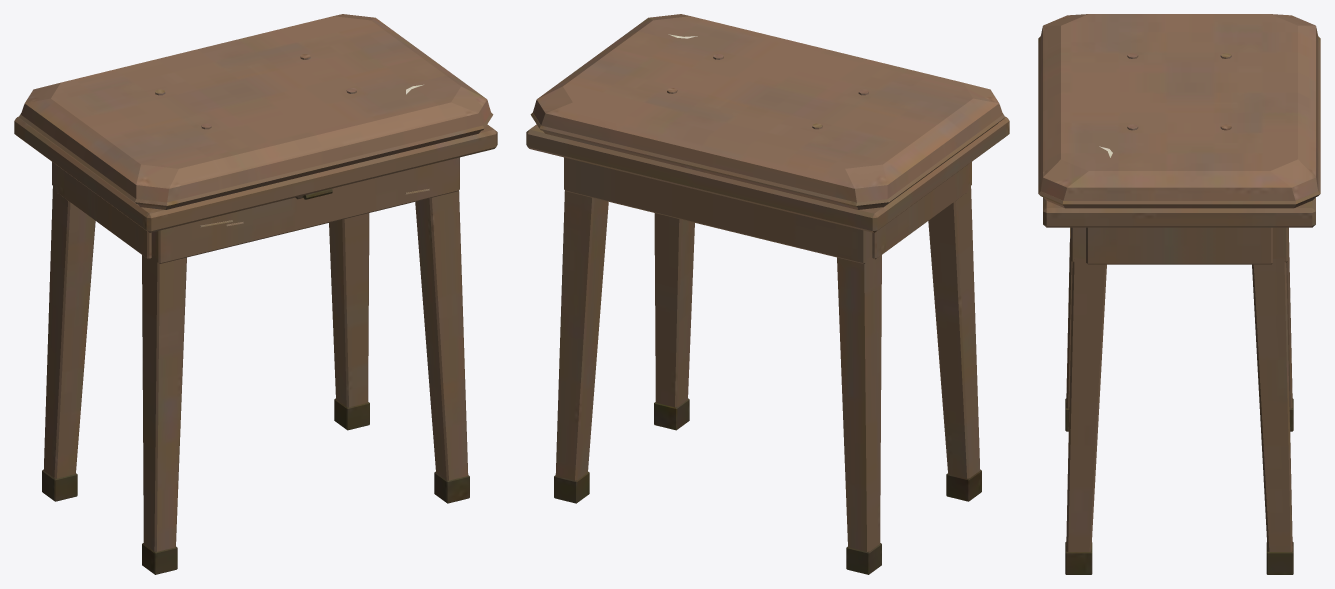
File: Q23_piano_stool.glb
3 renders of one model, left to right at view 1: azimuth 30°, elevation 25°; view 2: azimuth 150°, elevation 25°; view 3: azimuth 270°, elevation 25°, orthographic.
Visible parts, largest first — view 1: Tapered_stool_leg; view 2: Tapered_stool_leg; view 3: Tapered_stool_leg.
Boxes of the visible parts, x1,y1,x2,y2 form: Tapered_stool_leg: (14, 14, 497, 574); Tapered_stool_leg: (526, 14, 1009, 574); Tapered_stool_leg: (1038, 14, 1320, 574).
Size of the model in its own units: 0.464 by 0.5 by 0.314.
6 materials, 6 textured.
